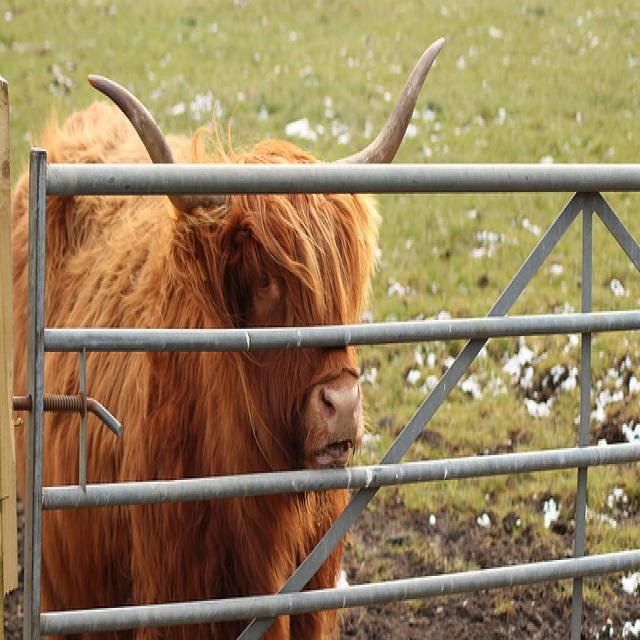cow: (10, 32, 445, 638)
